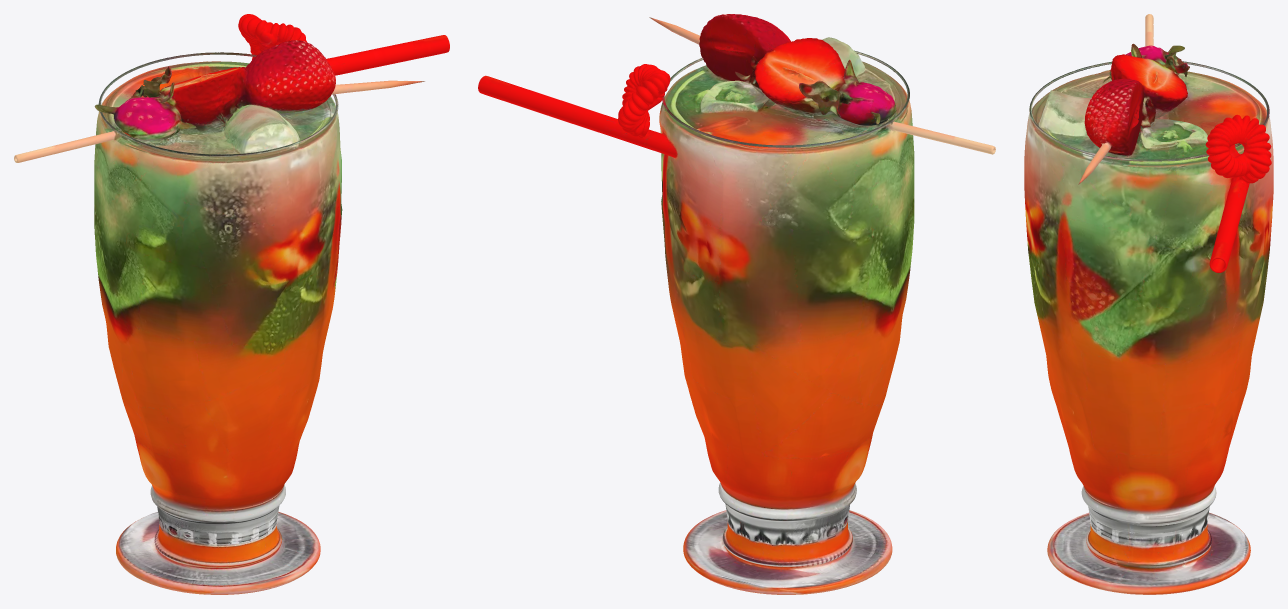
Rendered from Strawberry_Mojito.glb.
The picture shows the model from 3 angles, left to right: view 1: azimuth 30°, elevation 25°; view 2: azimuth 150°, elevation 25°; view 3: azimuth 270°, elevation 25°; orthographic projection. The views are drawn at different scales.
Size of the model in its own units: 1.84 by 1.9 by 0.8613.
Materials: 1 (1 with a texture image).
